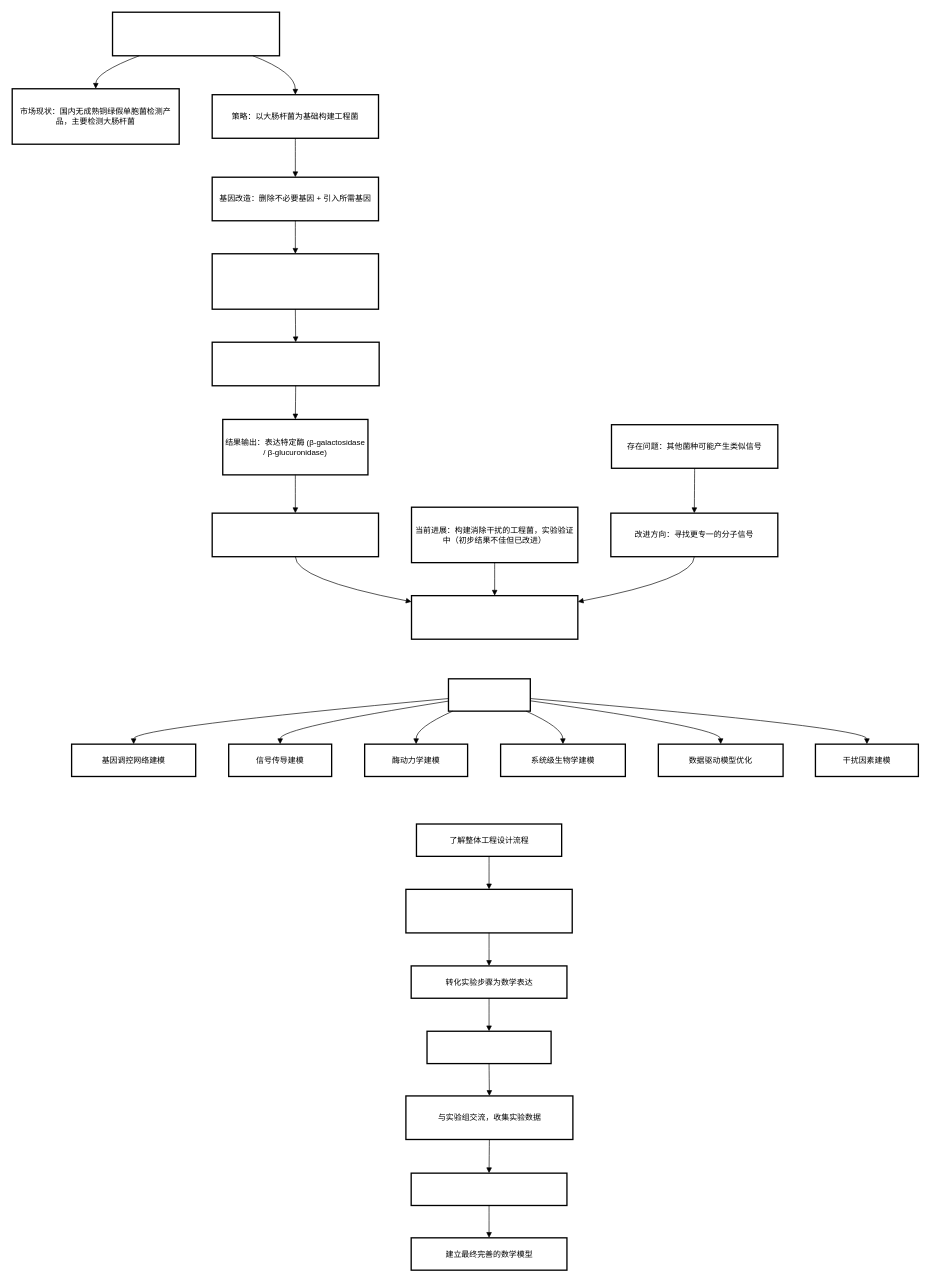
Some shapes in this 930 by 1282 pixel diagram are drawn without their labels. The shapes that lost their labels are listed below. From the top down, each one's centre as x and y in pixels, then its label:
At [196,33]: "项目目标：开发新型生物传感器检测铜绿假单胞菌".
At [295,281]: "检测机制：接触铜绿假单胞菌后产生信号分子 (TAKS & HSL-3)".
At [295,363]: "信号传导：信号分子激活相应蛋白，启动下游基因表达".
At [295,534]: "检测指示：底物反应产生黄色或荧光".
At [494,617]: "最终目标：准确检测环境中铜绿假单胞菌".
At [489,694]: "建模工作".
At [489,910]: "识别可定量环节（转入效率、翻译效率、催化效率等）".
At [488,1047]: "构建初步数学模型".
At [488,1189]: "根据数据修订和完善模型".
